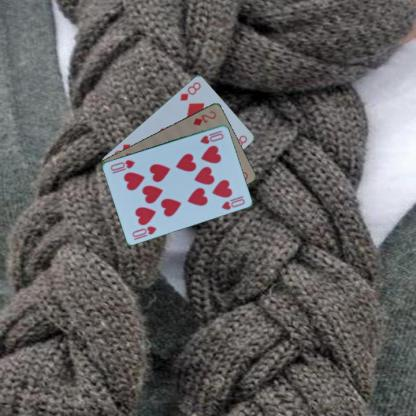10h: (198, 128, 224, 145), (129, 223, 158, 238)
2d: (191, 108, 217, 128)
8d: (178, 79, 202, 102)
